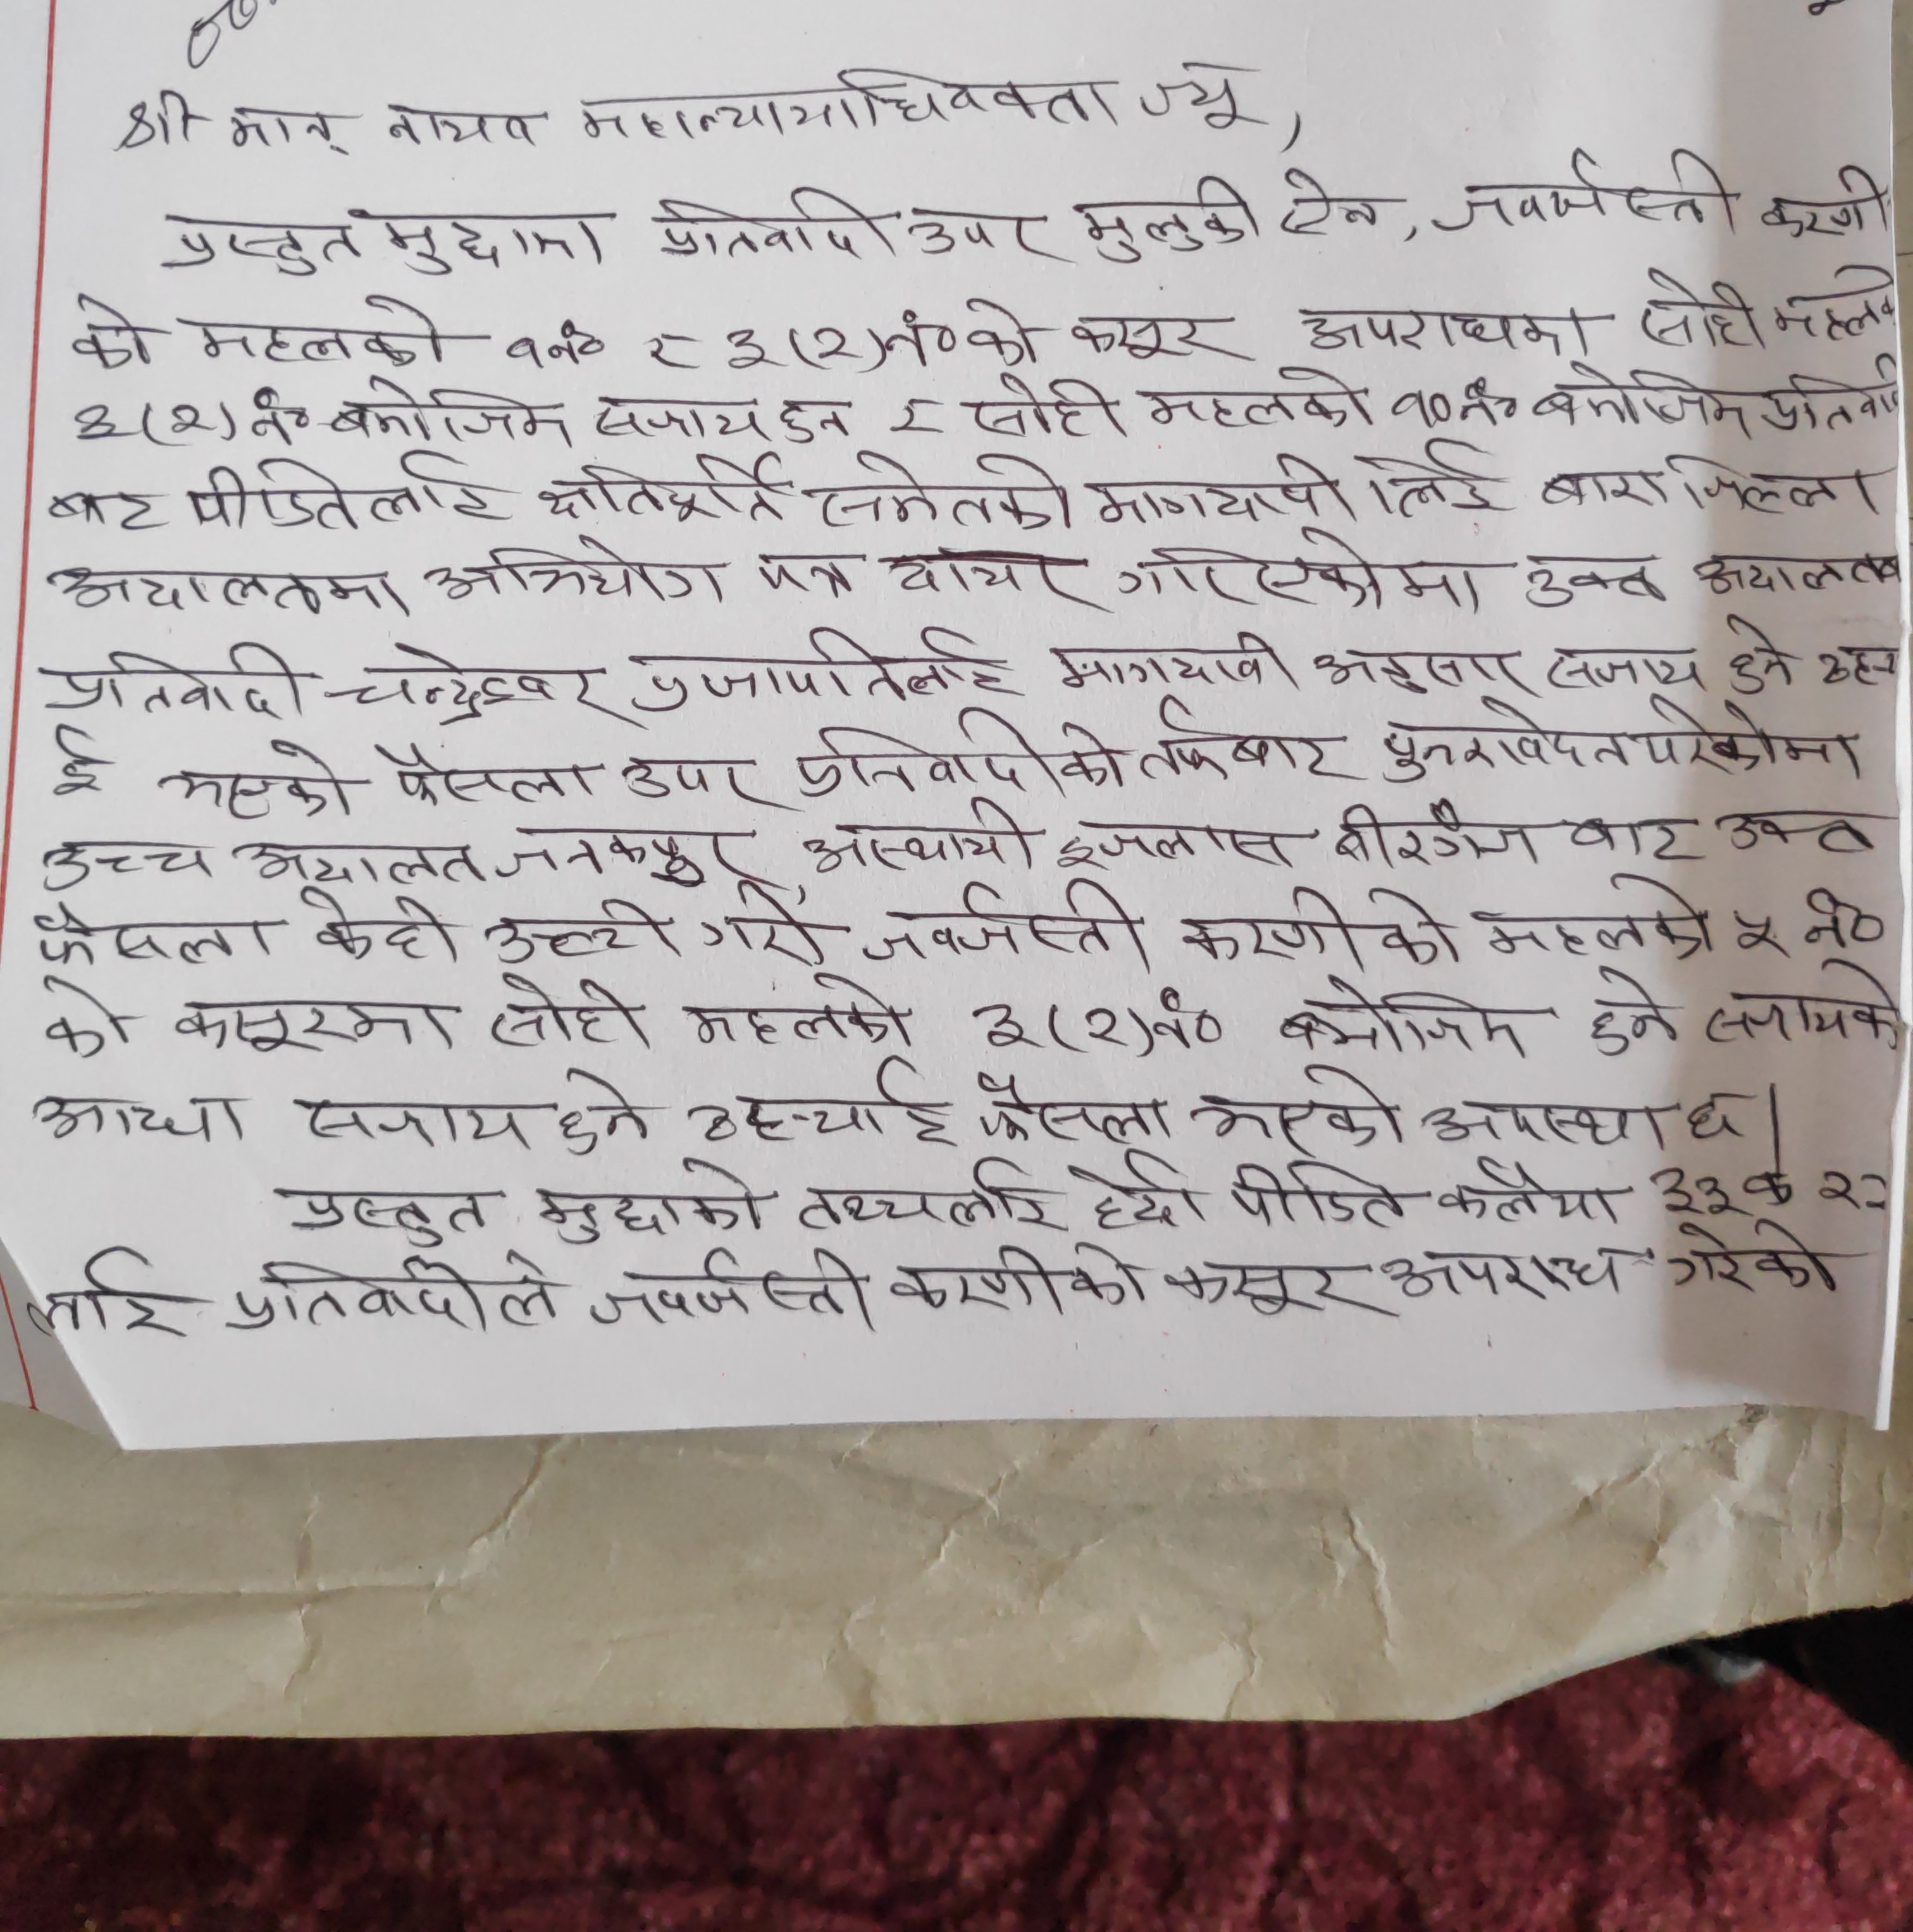text: (575, 60, 1126, 144), (1377, 694, 1866, 786), (1111, 527, 1482, 617), (634, 622, 1016, 708), (229, 1251, 564, 1338), (862, 878, 1153, 976), (790, 713, 1121, 799), (1428, 145, 1745, 233), (681, 1054, 951, 1153), (419, 531, 732, 613), (177, 447, 496, 527), (1175, 886, 1459, 976), (585, 1251, 879, 1336), (319, 641, 617, 725), (802, 448, 1076, 536), (881, 1233, 1149, 1317), (1279, 977, 1543, 1061), (184, 289, 455, 370), (44, 557, 417, 615), (799, 1154, 1065, 1235), (1479, 876, 1713, 967), (645, 186, 904, 266), (1701, 956, 1906, 1058), (527, 1158, 764, 1245), (1137, 695, 1368, 785), (1083, 448, 1356, 524), (1189, 1061, 1410, 1154), (37, 643, 308, 718), (1528, 357, 1754, 443), (328, 373, 583, 448), (156, 729, 350, 827), (494, 816, 759, 888), (1065, 170, 1263, 264), (1034, 625, 1305, 694), (529, 457, 792, 527), (168, 993, 457, 1056), (678, 972, 914, 1049), (802, 800, 1042, 876), (967, 1063, 1175, 1149), (1291, 305, 1596, 363), (28, 902, 279, 970), (373, 207, 613, 277), (1379, 1242, 1638, 1307), (25, 1242, 186, 1343), (1330, 795, 1545, 871), (1422, 1091, 1671, 1156), (1161, 1251, 1380, 1324), (1144, 366, 1377, 434), (1675, 445, 1885, 520), (1691, 539, 1913, 610), (1223, 1147, 1410, 1230), (879, 543, 1091, 615), (1662, 1219, 1846, 1301), (484, 892, 681, 967), (378, 737, 597, 804), (1759, 350, 1913, 443), (958, 366, 1132, 448), (1053, 816, 1300, 874), (286, 1091, 538, 1147), (161, 207, 357, 279), (23, 1086, 251, 1147), (279, 1182, 491, 1247), (1440, 1156, 1626, 1228), (478, 970, 655, 1046), (1633, 261, 1762, 357), (1359, 440, 1508, 522), (1063, 1147, 1209, 1231), (229, 839, 484, 886), (296, 886, 457, 960), (692, 881, 827, 967), (1759, 161, 1894, 243), (1712, 800, 1892, 862), (39, 834, 210, 895), (911, 196, 1067, 263), (1065, 310, 1254, 364), (1312, 643, 1526, 690), (1515, 546, 1666, 613), (1577, 969, 1682, 1063), (1140, 58, 1275, 130), (589, 394, 769, 447), (1267, 161, 1384, 242), (33, 977, 142, 1063), (620, 751, 771, 813), (380, 96, 540, 154), (555, 1065, 655, 1154), (42, 480, 166, 548), (1547, 641, 1708, 692), (1563, 813, 1703, 871), (226, 100, 356, 161), (63, 293, 156, 377), (1531, 464, 1671, 517), (964, 293, 1046, 373), (119, 84, 203, 156), (752, 546, 858, 603), (1720, 613, 1794, 694), (1803, 888, 1892, 951), (510, 317, 615, 370), (771, 389, 858, 452), (1650, 1165, 1748, 1219), (1808, 636, 1902, 692), (245, 378, 314, 454), (885, 305, 962, 371), (47, 715, 107, 799), (964, 997, 1042, 1060), (1813, 1163, 1895, 1221), (1724, 900, 1794, 967), (1680, 1088, 1752, 1147), (1456, 366, 1519, 431), (1391, 377, 1452, 438), (1738, 1156, 1801, 1214), (881, 389, 942, 445), (70, 399, 131, 452), (1076, 997, 1130, 1054), (715, 324, 778, 371), (645, 326, 697, 378), (163, 394, 217, 445), (804, 324, 864, 364)
